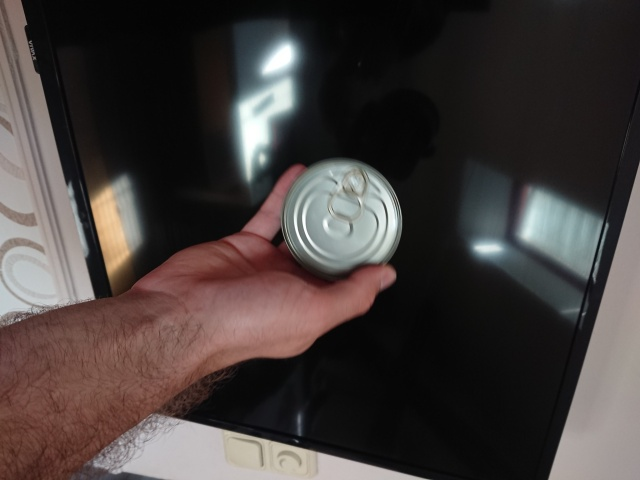Gavrilovic Pork Liver Pate 100g: (278, 154, 405, 285)
